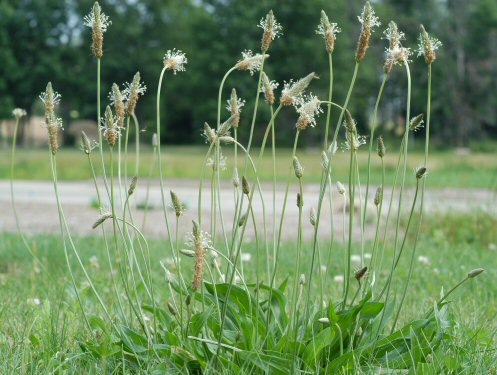buckhorn plantain: (30, 1, 449, 374)
